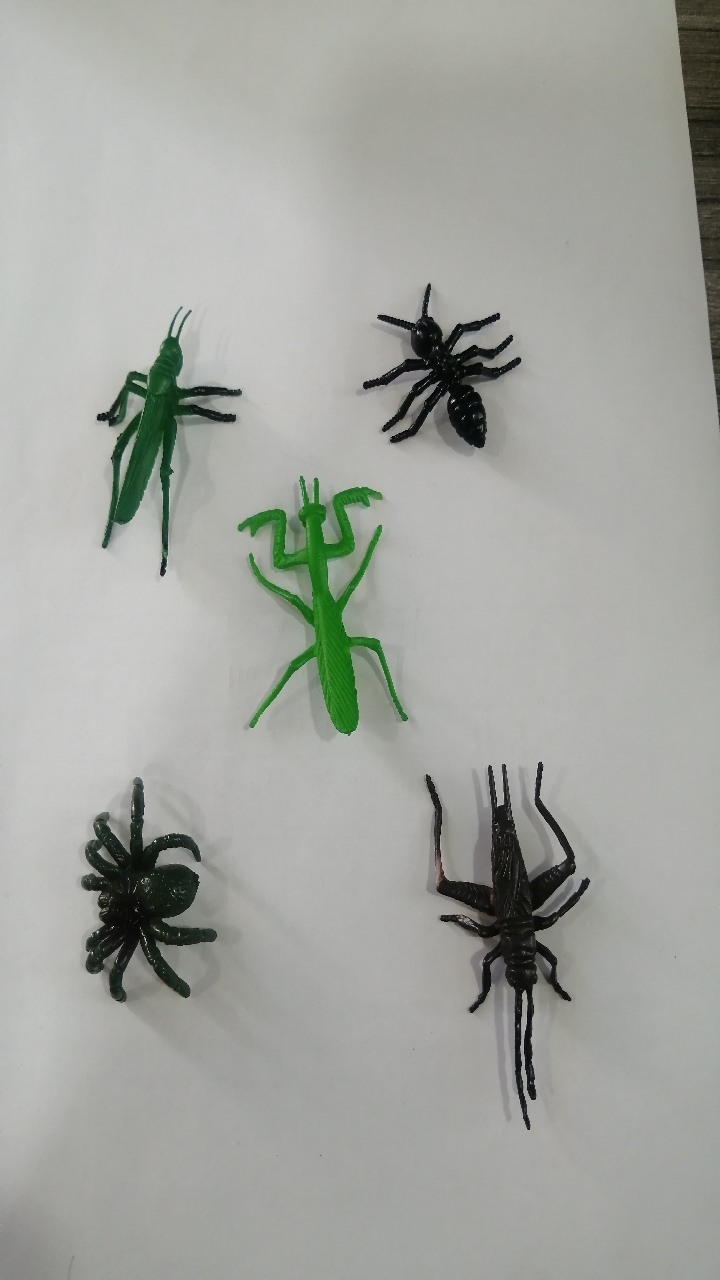intruso: (178, 443, 428, 785), (389, 748, 598, 1142), (40, 760, 246, 1046), (64, 266, 237, 586), (344, 242, 543, 483)
